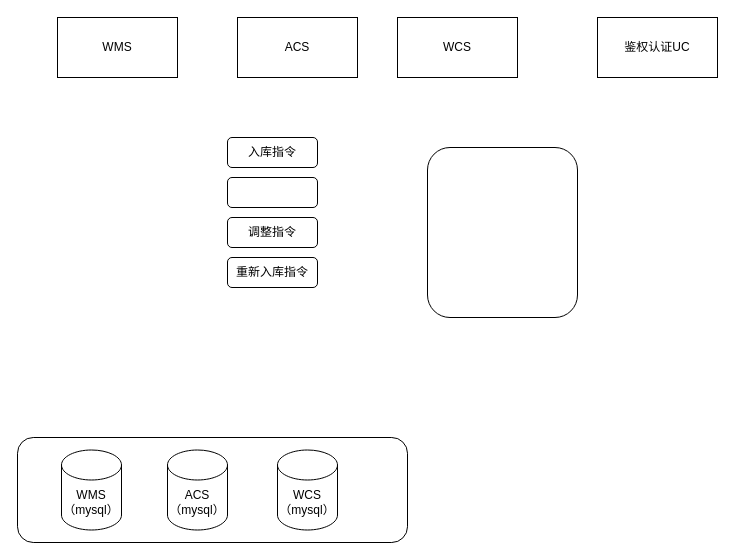
The diagram is 735 pixels wide and 560 high, and some of its shapes have lost their labels. The box of each missing label's shape, as (x1, y1, x2, y2) in pixels:
API: (426, 146, 578, 318)
出库指令: (226, 176, 318, 208)
数据层: (16, 436, 408, 542)
